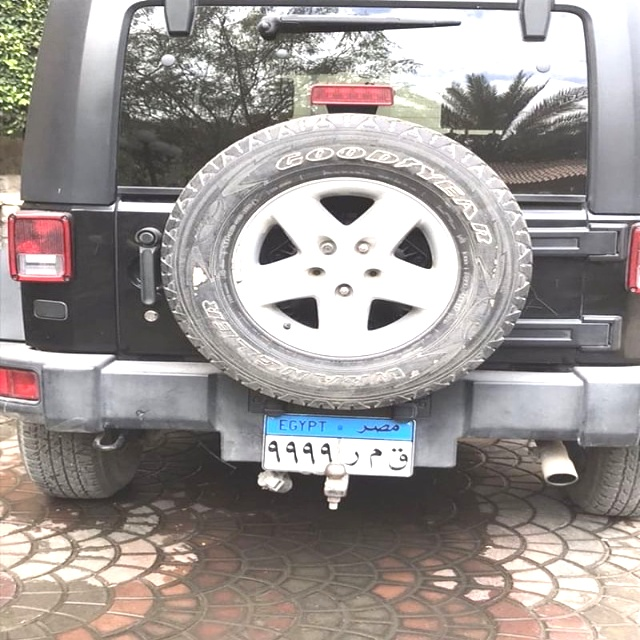License Plate: (259, 410, 418, 479)
